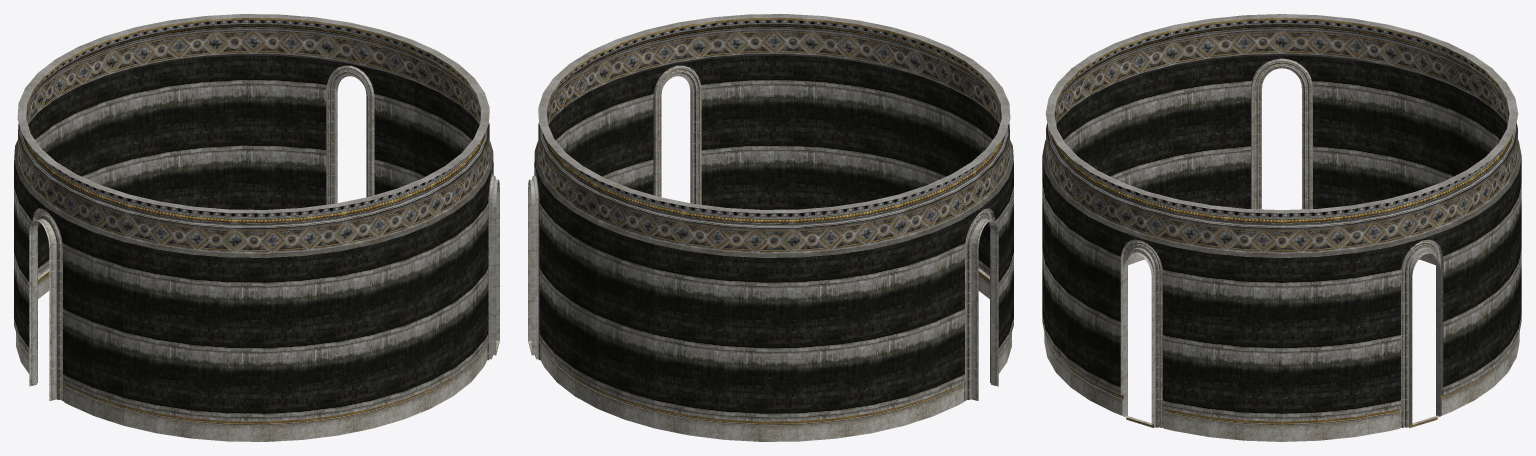
File: KnightCastle_LibraryWalls02.FBX
The picture shows the model from 3 angles, left to right: view 1: azimuth 30°, elevation 25°; view 2: azimuth 150°, elevation 25°; view 3: azimuth 270°, elevation 25°; orthographic projection.
Visible parts, largest first — view 1: SM_KnightCastle_LibraryWalls02; view 2: SM_KnightCastle_LibraryWalls02; view 3: SM_KnightCastle_LibraryWalls02.
Part boxes in pixels (x1,y1,x2,y2): SM_KnightCastle_LibraryWalls02: (14, 14, 499, 441); SM_KnightCastle_LibraryWalls02: (528, 14, 1013, 441); SM_KnightCastle_LibraryWalls02: (1042, 14, 1521, 441).
Size of what is drawn, in the model's own units: 2125 by 2092 by 1095.
